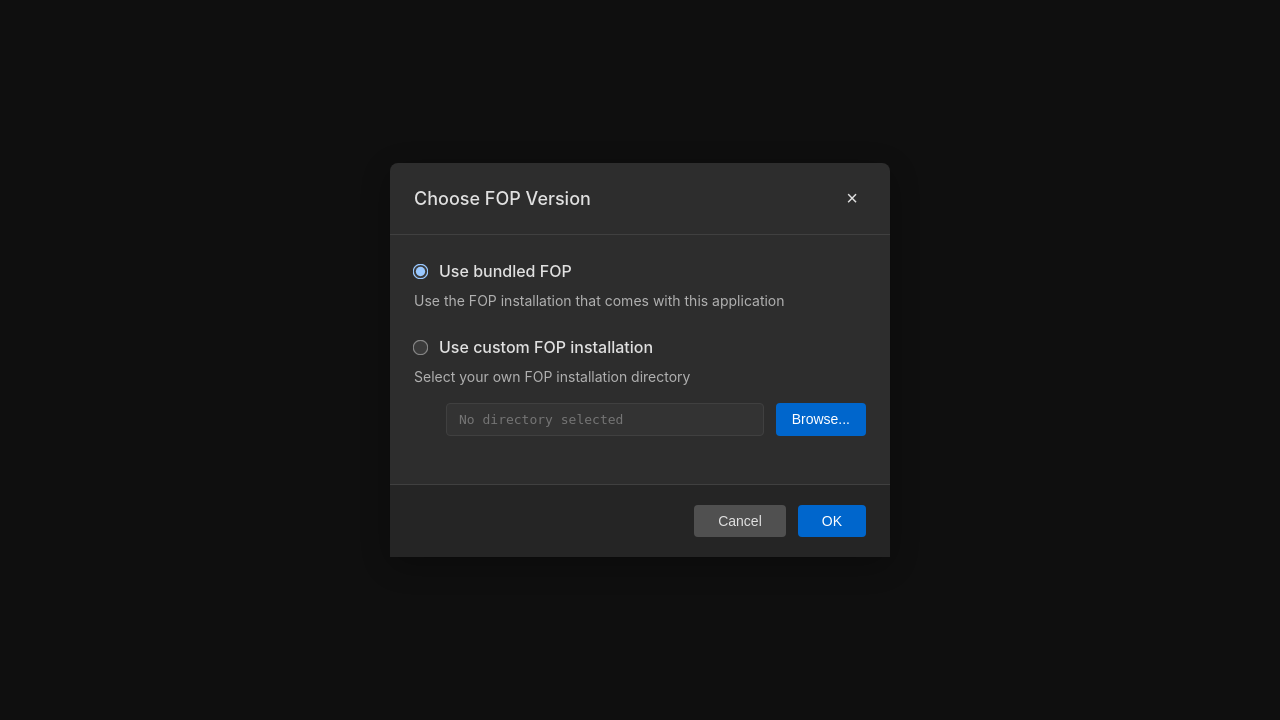
it: FopSettingsDialog › shows the error when saving fails
Expected: the radio button labelled "Use bundled FOP" is shown, [413,264,428,279]
Click the button "OK".
click(832, 521)  # box [798,505,866,537]
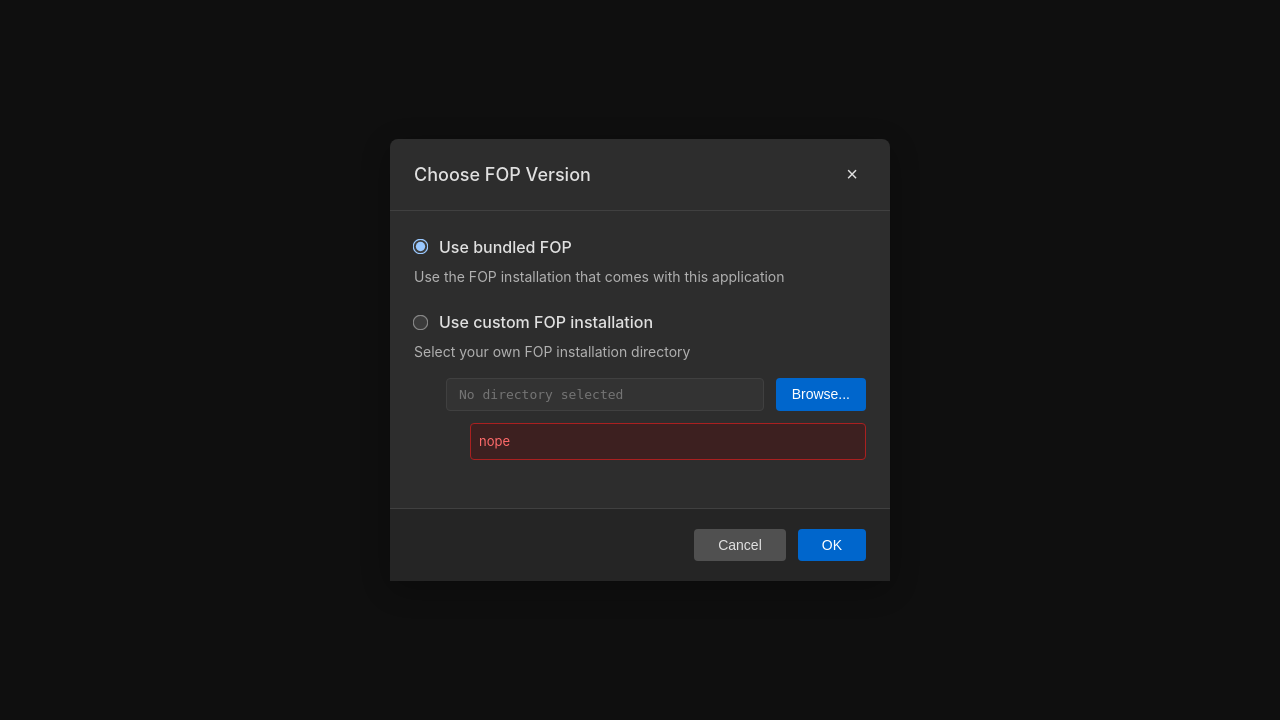
Expected: the text "nope" is shown, [470,423,866,460]
